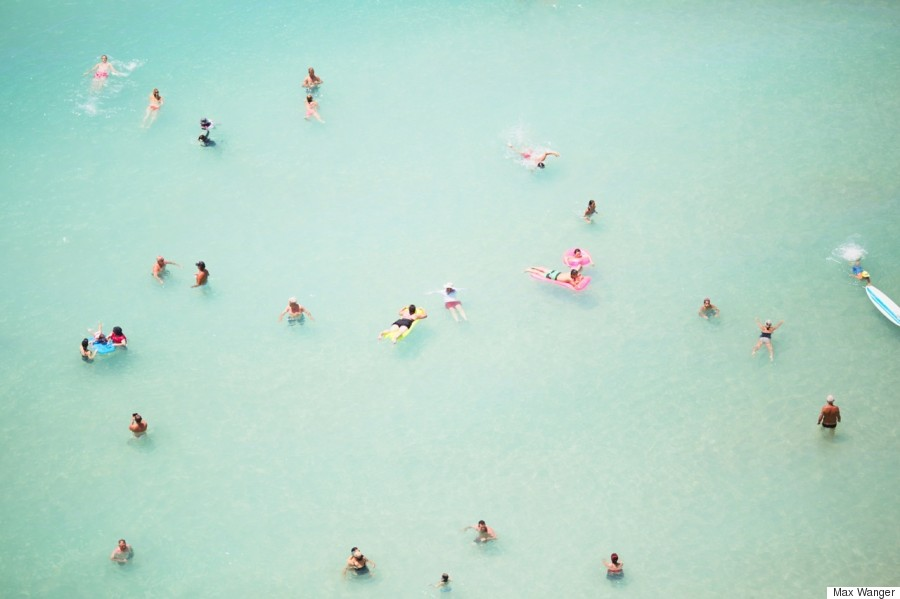people: (520, 257, 612, 304), (375, 299, 440, 350), (425, 274, 482, 324), (496, 137, 569, 176), (118, 405, 175, 449), (269, 288, 321, 333), (808, 391, 853, 443), (141, 247, 192, 292), (334, 542, 381, 583), (84, 54, 127, 93), (139, 86, 173, 135), (748, 311, 780, 360), (102, 531, 142, 570), (293, 91, 337, 124), (572, 193, 610, 230), (187, 259, 222, 298), (425, 564, 464, 597), (691, 293, 729, 324), (466, 517, 502, 548), (599, 553, 636, 581), (562, 243, 600, 268), (105, 324, 137, 353), (296, 65, 329, 93), (73, 335, 101, 365), (90, 321, 114, 356), (192, 127, 223, 152), (193, 113, 219, 133)
